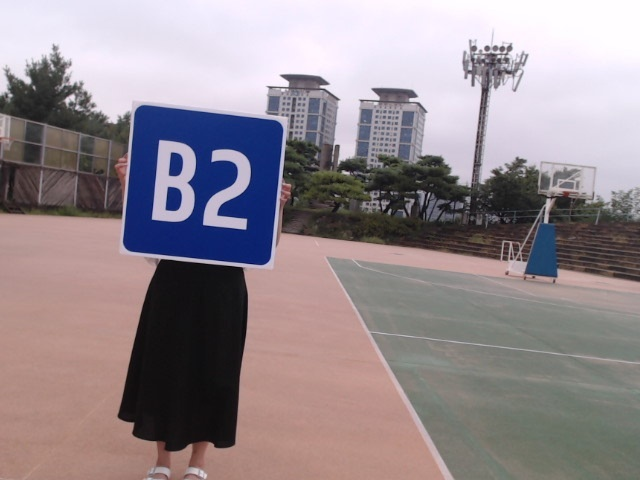delivery_b2: (119, 103, 286, 267)
